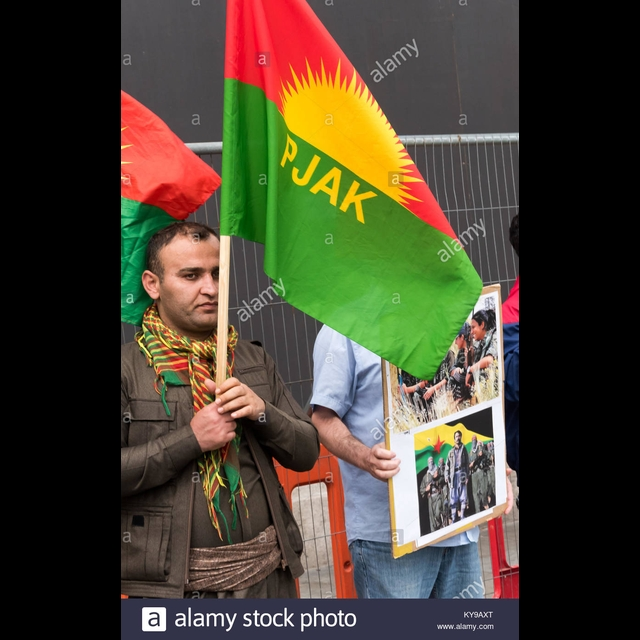PJAK: (268, 49, 411, 238)
